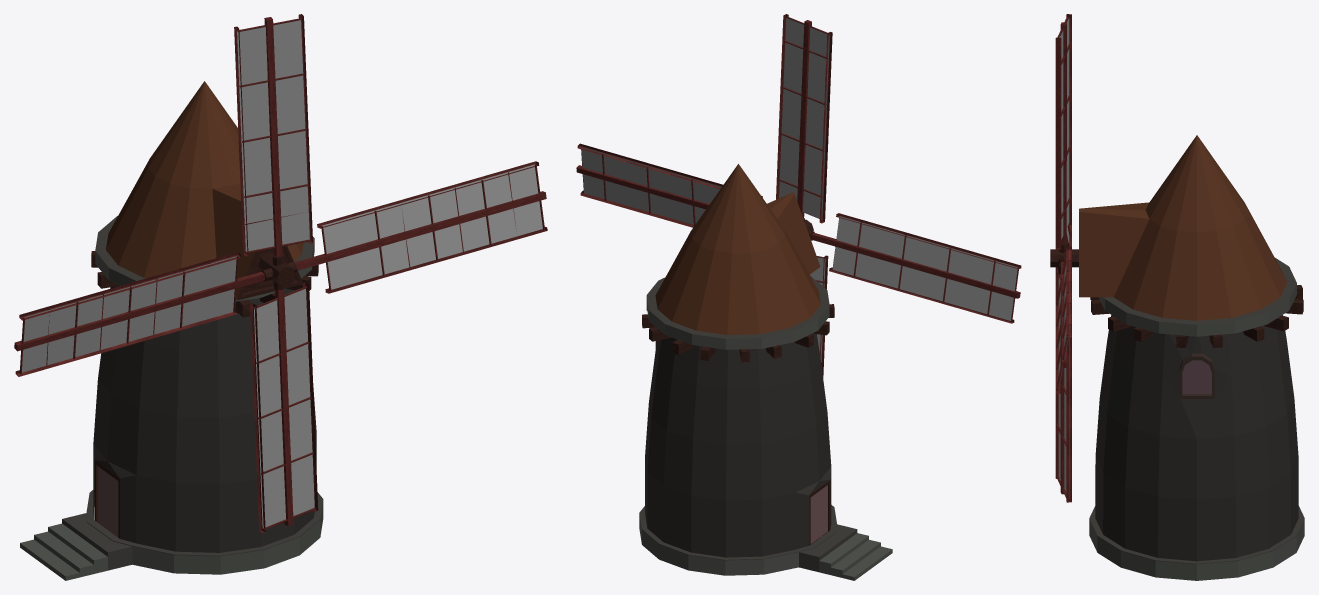
Rendered from windmill.zfix-v1.lod0.glb.
The picture shows the model from 3 angles, left to right: view 1: azimuth 30°, elevation 25°; view 2: azimuth 150°, elevation 25°; view 3: azimuth 270°, elevation 25°; orthographic projection. The views are drawn at different scales.
Parts seen in each view (by area): view 1: Object_4, Object_35, Object_20; view 2: Object_4, Object_35, Object_20; view 3: Object_4, Object_35, Object_20.
Part boxes in pixels (<box>): Object_4: <box>20,20,542,580</box>; Object_35: <box>14,14,547,532</box>; Object_20: <box>91,246,318,538</box>; Object_4: <box>581,18,1017,580</box>; Object_35: <box>576,14,1021,377</box>; Object_20: <box>642,218,834,545</box>; Object_4: <box>1058,18,1304,580</box>; Object_35: <box>1055,14,1071,502</box>; Object_20: <box>1050,242,1303,347</box>.
Bounding box in the file's own units: 11.81 × 12 × 5.46.
Materials: 3 (2 with a texture image).
